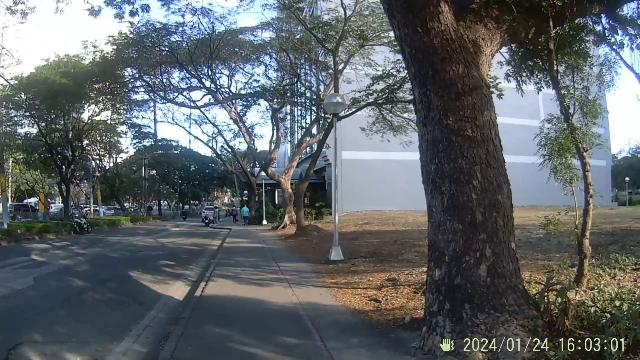lamp_post: (322, 90, 351, 264)
tree: (389, 0, 526, 326), (262, 126, 314, 236)
